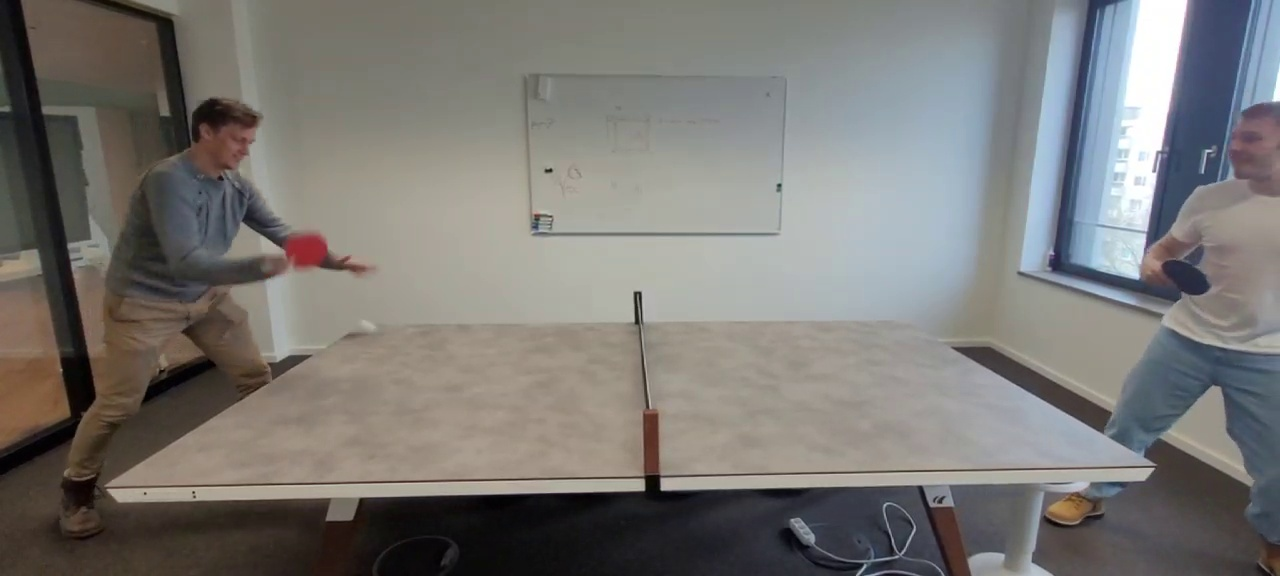1: (1162, 259, 1213, 295), (286, 230, 327, 271)
2: (359, 319, 375, 333)
ttplatte: (104, 320, 1156, 489)
